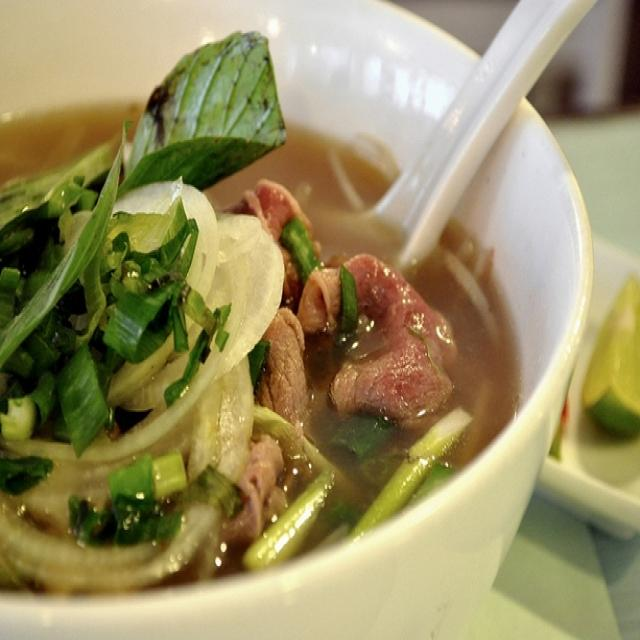面条主食: (11, 47, 542, 607)
